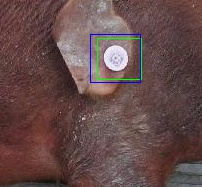text: (97, 38, 141, 79)
